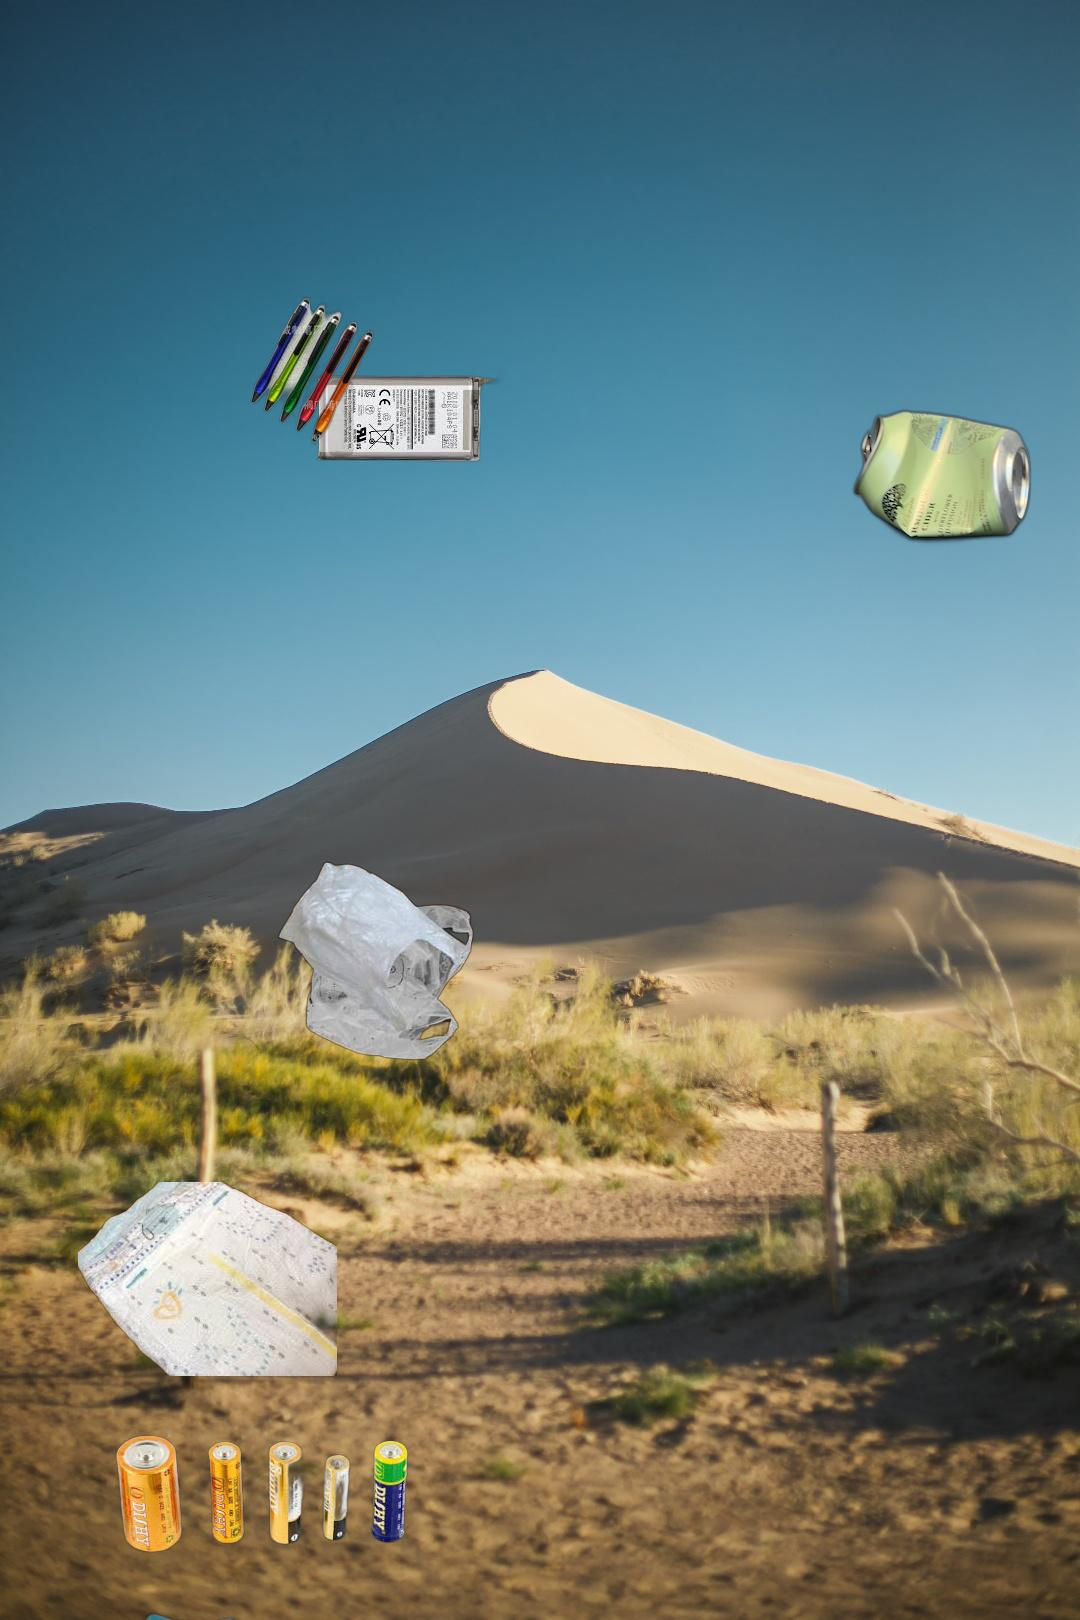battery: (115, 1433, 409, 1555), (315, 369, 506, 464)
clothes: (23, 1609, 366, 1620)
metal-cans: (849, 404, 1035, 548)
penholder: (248, 297, 382, 446)
plastic-bag: (275, 859, 476, 1063)
trash: (78, 1182, 337, 1377)
